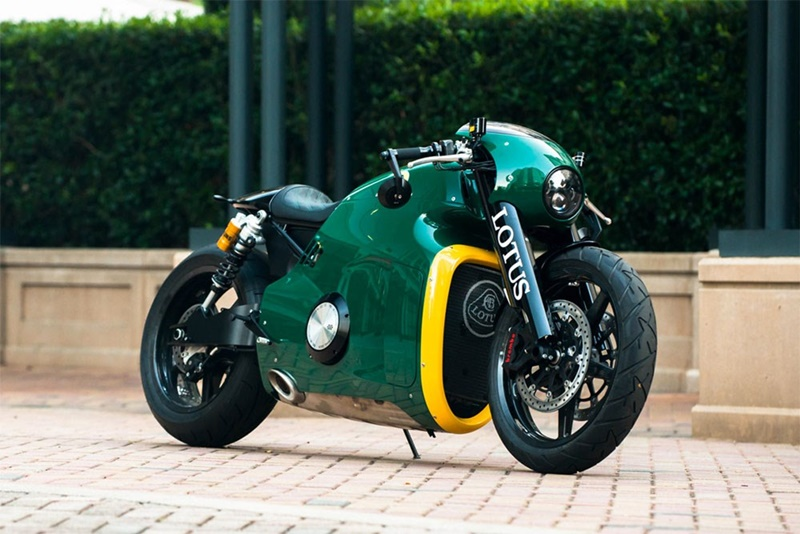motorcycle: (134, 116, 659, 469)
